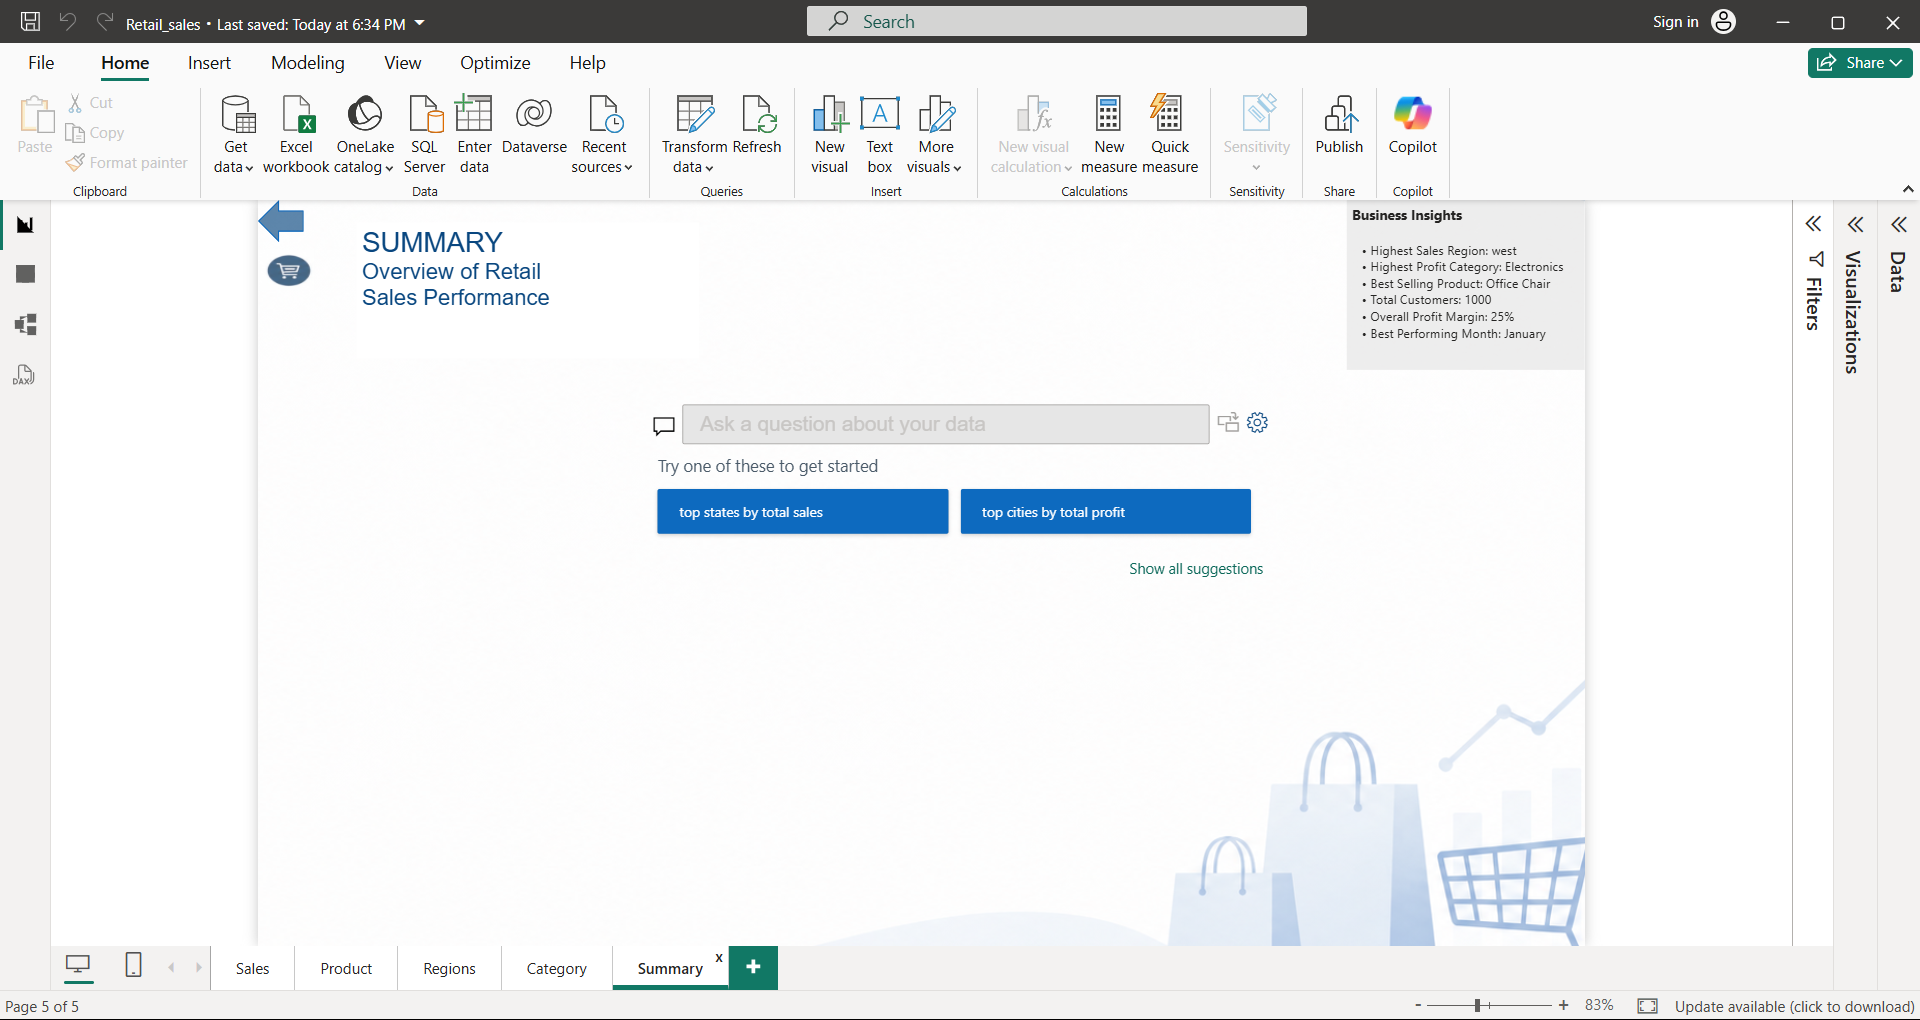

The dashboard page shown, as its layout file describes it:
{"tool":"powerbi","page":{"name":"Summary","canvas":[1280,720],"ordinal":4},"visuals":[{"type":"textbox","box":[95.3,21.7,330.6,131.5],"z":0},{"type":"qnaVisual","box":[372.8,172.5,610.5,435.5],"z":1000},{"type":"textbox","box":[1050.8,0,229.2,164.1],"z":2000},{"type":"shape","box":[0,0,44.2,40.7],"z":3000},{"type":"actionButton","box":[0,47.7,54.7,39.5],"z":4000}]}

Visuals, with their boxes on the page's 1280x720 design canvas (x1, y1, x2, y2). These are canvas units, not pixel positions in the 1920x1020 screenshot, which may show the page scaled, cropped or inside an application window:
textbox: bbox=(95, 22, 426, 153)
qnaVisual: bbox=(373, 172, 983, 608)
textbox: bbox=(1051, 0, 1280, 164)
shape: bbox=(0, 0, 44, 41)
actionButton: bbox=(0, 48, 55, 87)
